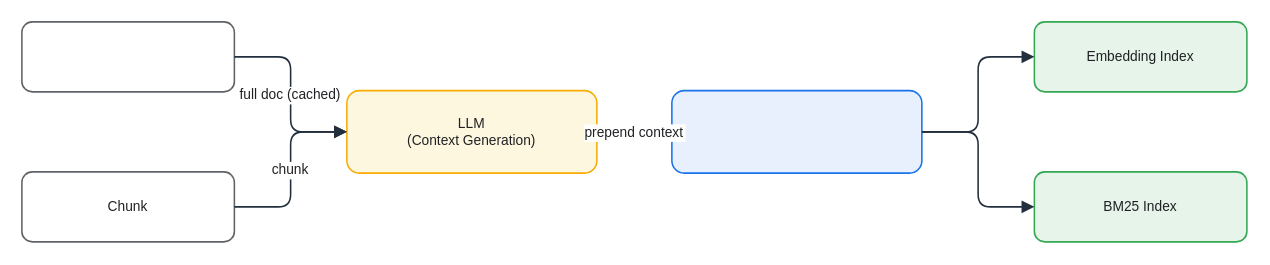
Some shapes in this 1270 by 265 pixel diagram are drawn without their labels. The box of each missing label's shape, as (x1, y1, x2, y2) in pixels:
Contextualized Chunk (context + chunk): (670, 89, 922, 173)
Original Document: (20, 20, 235, 92)
